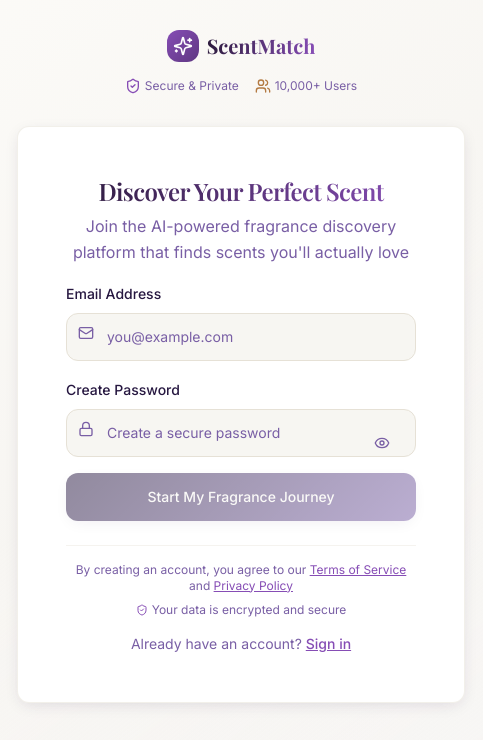
Test case: Authentication Page Accessibility Compliance (WCAG 2.2 AA) › 5. Form Accessibility › 5.1 Error Handling and Validation › error messages are descriptive and actionable
Type "test@" into the field labelled "Email Address" at [241, 336], box [66,312,416,360]
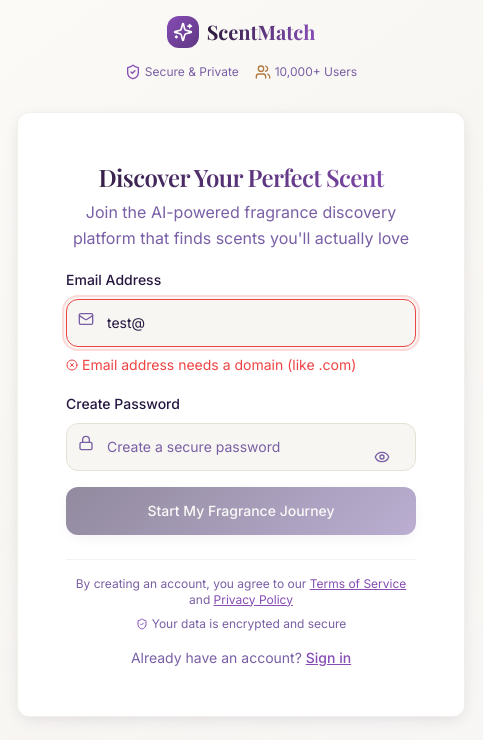
Result: the text "Email address needs a domain (like .com)" is shown at [82,354,356,374]
